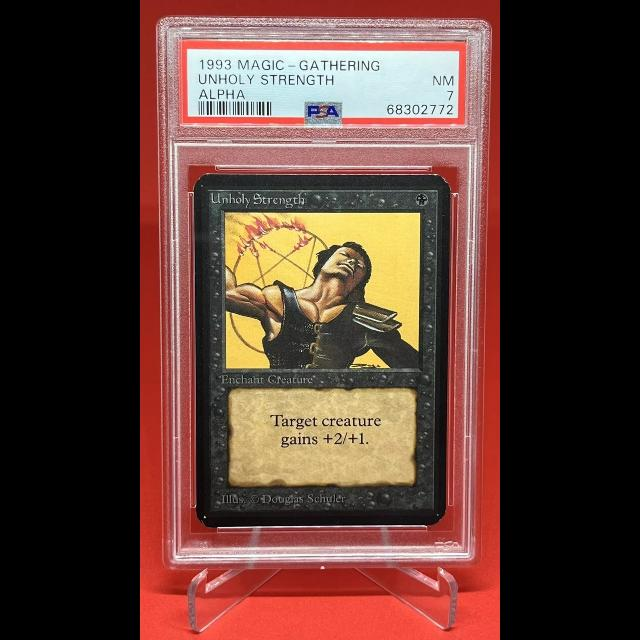card: (194, 174, 451, 528)
psa_label: (178, 39, 468, 126)
psa_slab: (155, 15, 493, 571)
